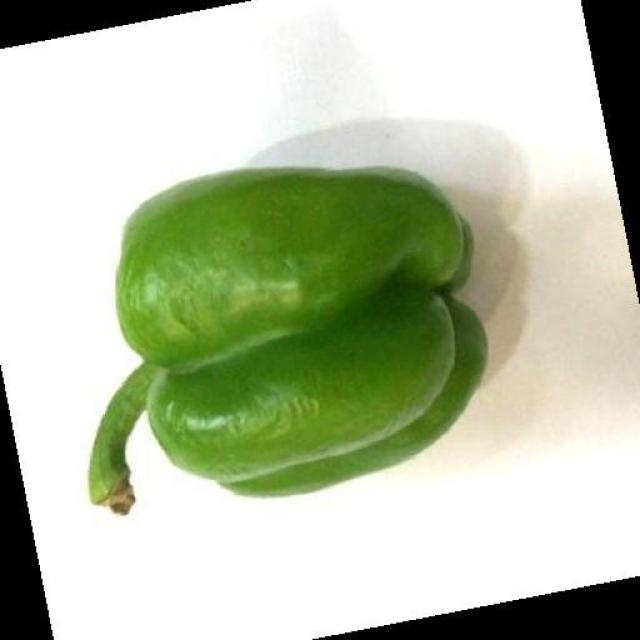Fresh_Capsicum: (125, 160, 517, 442)
